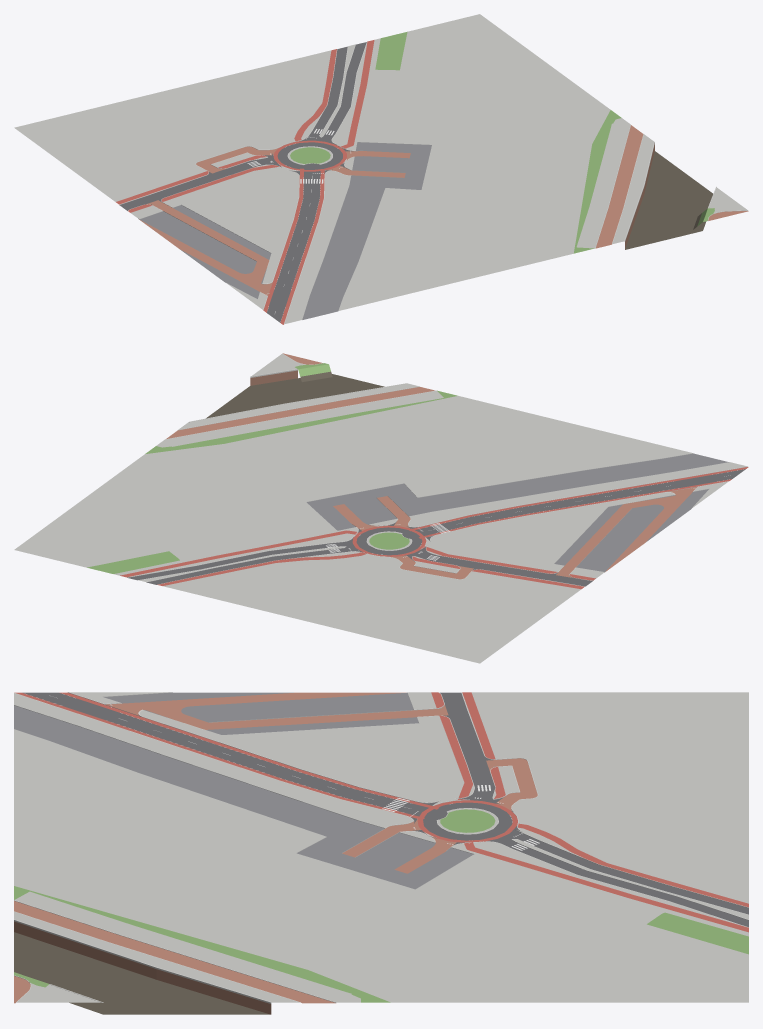
File: ground_11_6.glb
3 views of the same model, one above another, from view 1: azimuth 30°, elevation 25°; view 2: azimuth 150°, elevation 25°; view 3: azimuth 270°, elevation 25° (orthographic). The views are drawn at different scales.
Visible parts, largest first — view 1: ground_11_6; view 2: ground_11_6; view 3: ground_11_6.
Part boxes in pixels (x1,y1,x2,y2): ground_11_6: [14, 14, 748, 324]; ground_11_6: [14, 353, 748, 663]; ground_11_6: [14, 692, 748, 1014].
Bounding box in the file's own units: 200 × 3.68 × 200.
